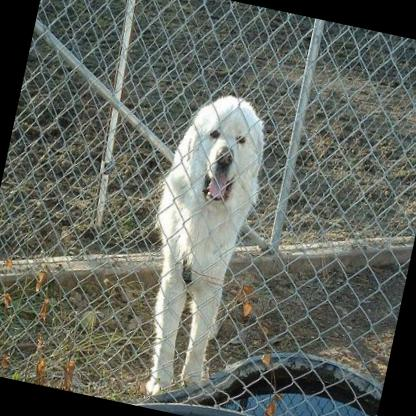Great_Pyrenees: (119, 84, 276, 408)
